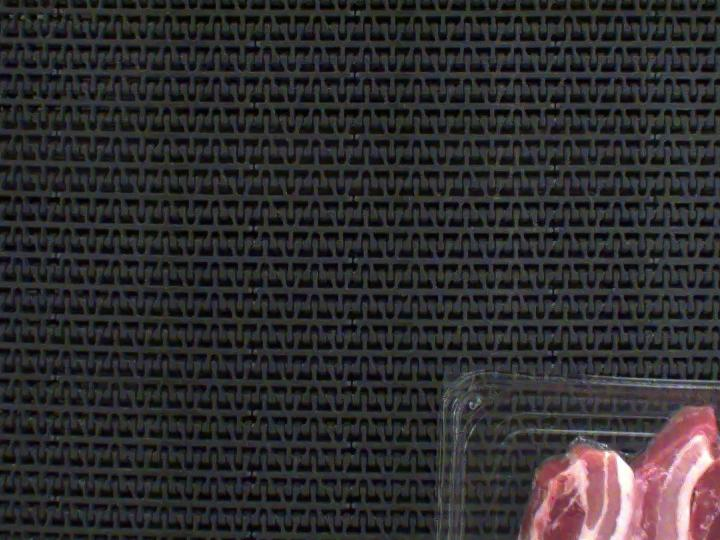unsealed: (493, 402, 720, 482)
